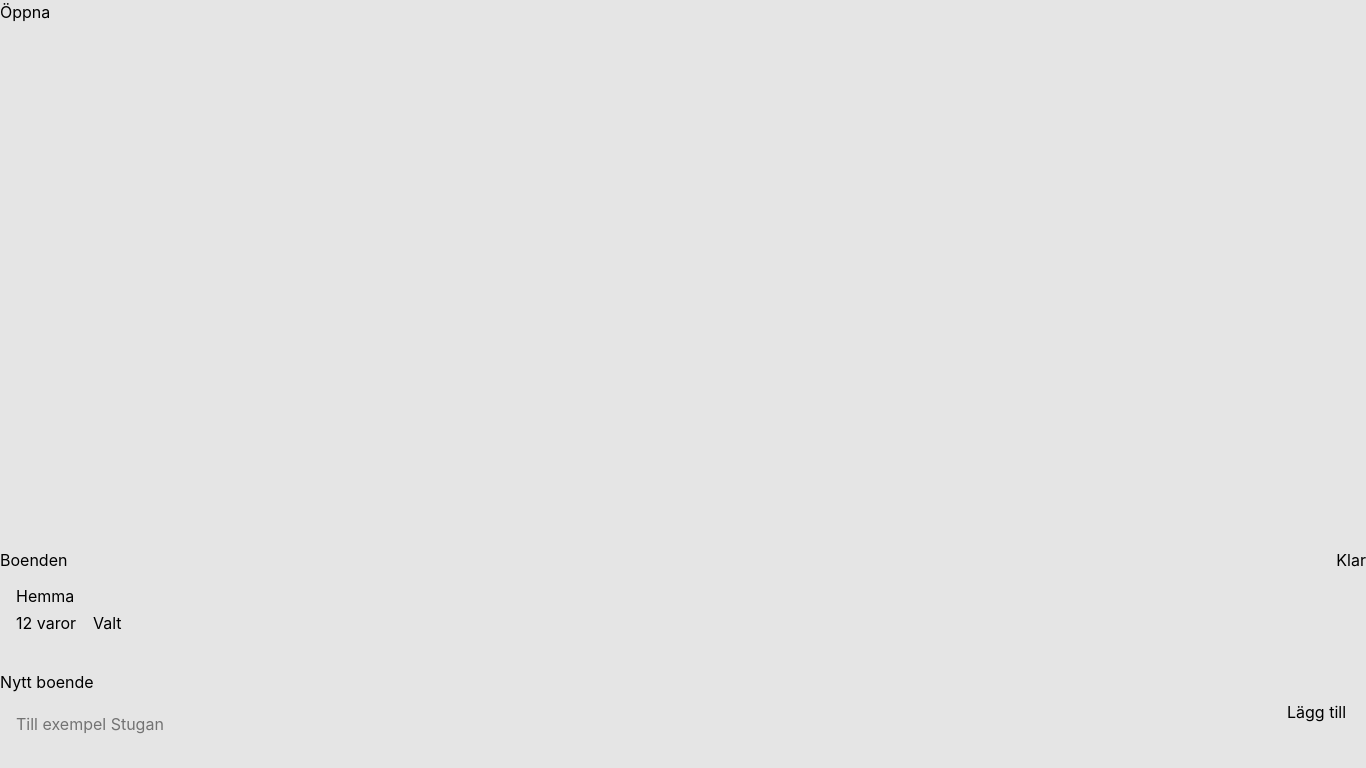
Scenario: SitesSheet › never says Lade till for a retry whose place was renamed since
Step 1. Type "Stugan" into the field labelled "Nytt boende" → (630, 724), box [0,700,1259,748]
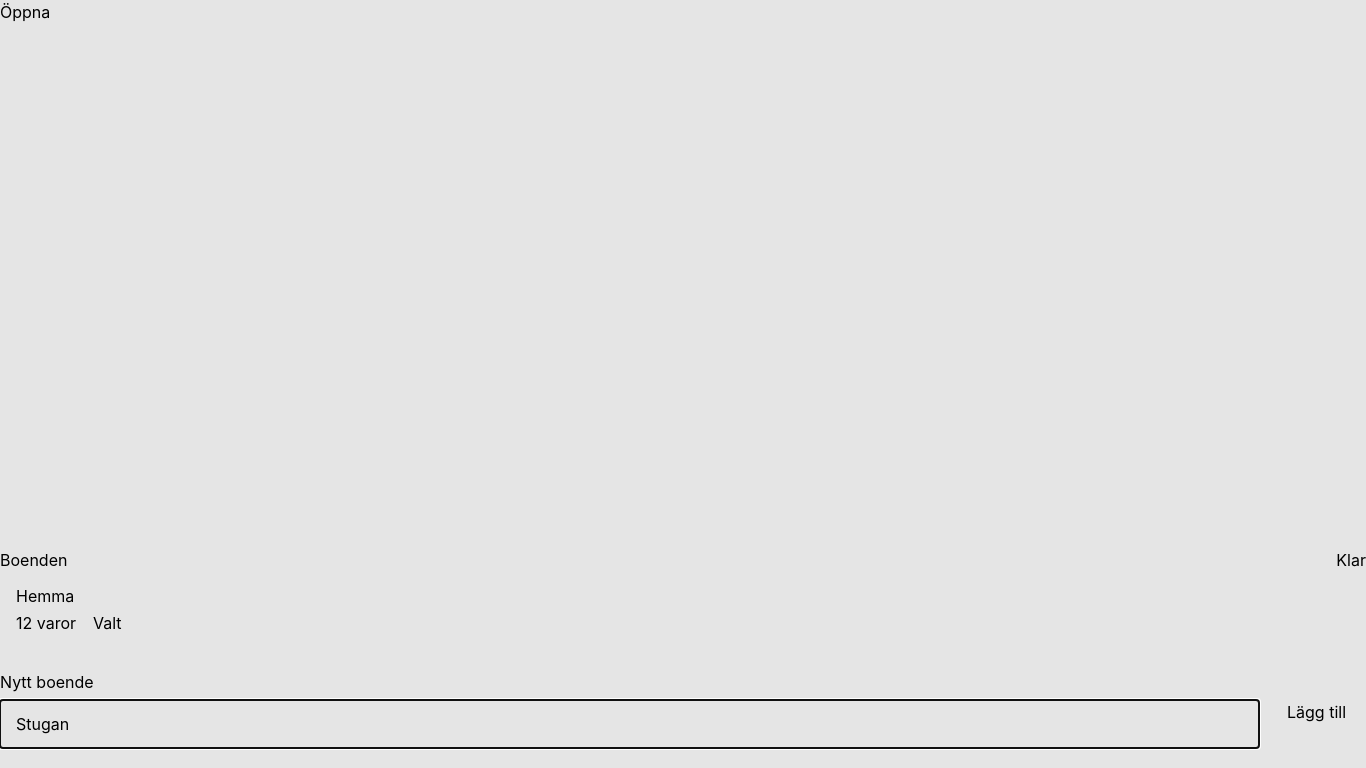
Step 2. Click the button "Lägg till" → (1316, 712), box [1267,700,1365,724]
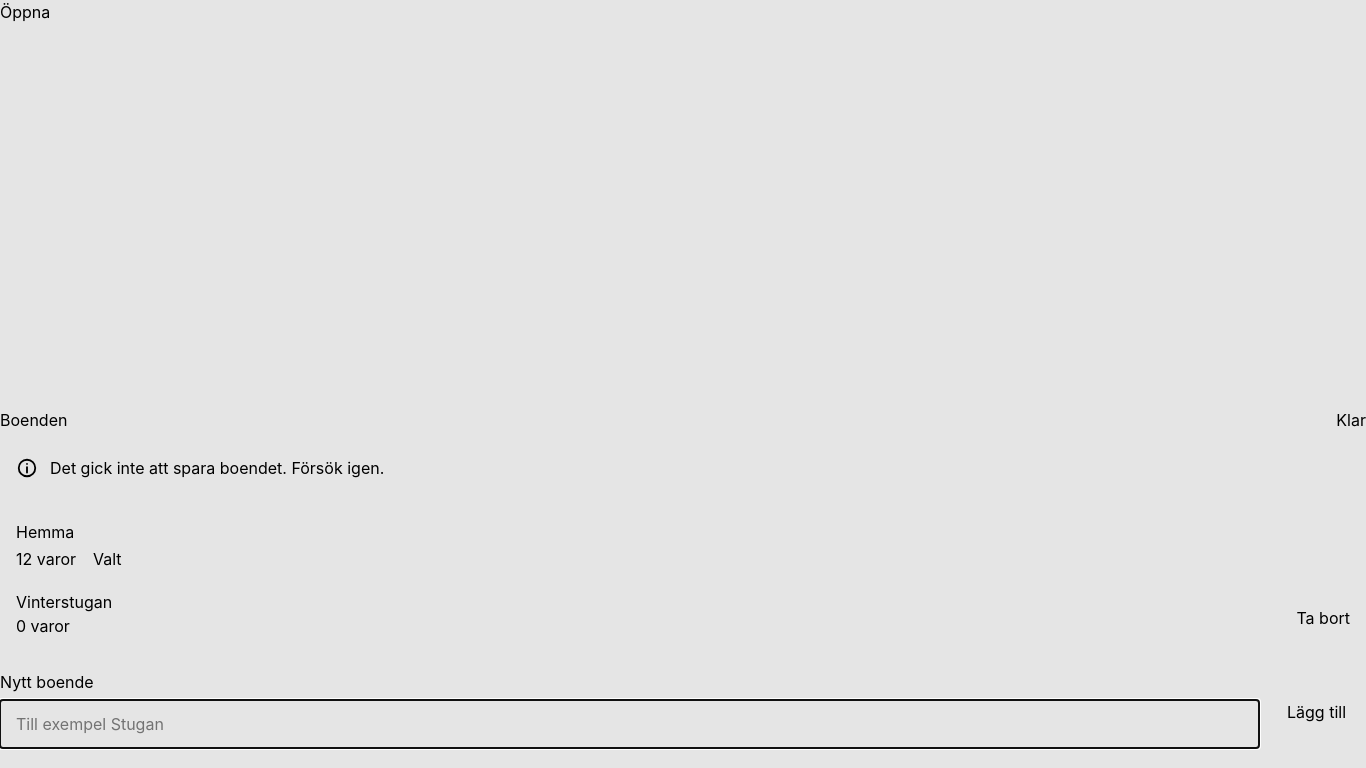
Expected: the message reads "Det gick inte att spara boendet. Försök igen.", [50,458,384,478]
Expected: the field labelled "Nytt boende" is empty, [0,700,1259,748]
